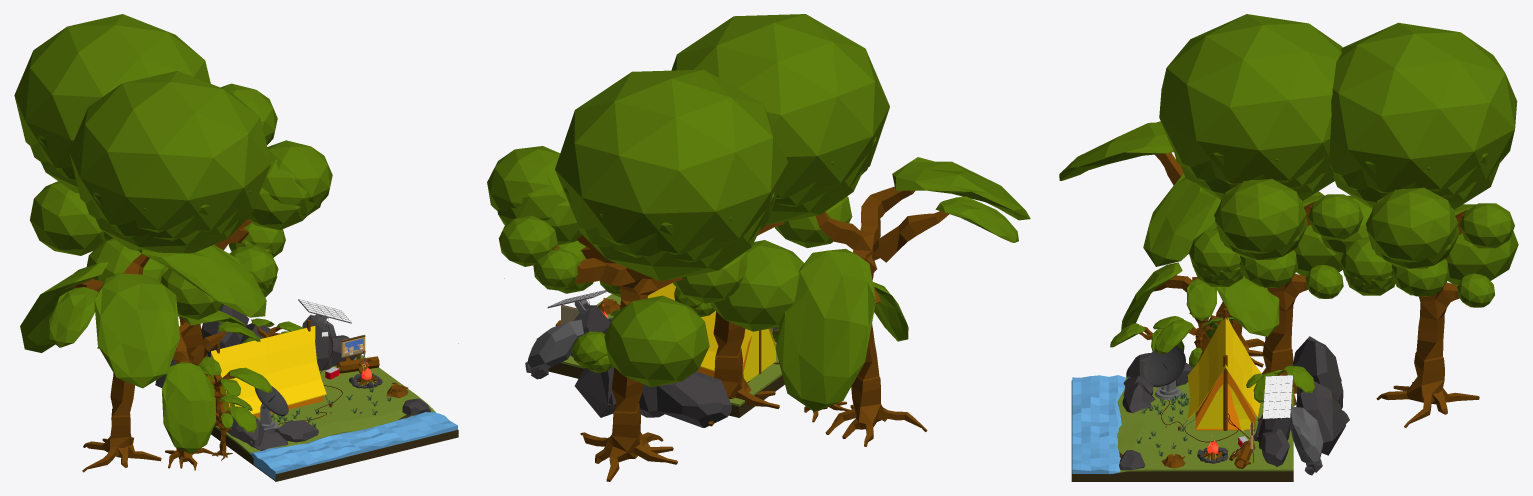
The model's file is camp_export11.glb.
3 renders of one model, left to right at view 1: azimuth 30°, elevation 25°; view 2: azimuth 150°, elevation 25°; view 3: azimuth 270°, elevation 25°, orthographic. The views are drawn at different scales.
Parts seen in each view (by area): view 1: Big tree leaves, Big tree leaves.001, Small Tree 2.003, Small Tree 2.002, Tent-main.001, Rock2.007, Rock2.003, Rock2.005, Rock_1.004, Small Tree 2.001, Small Tree Leaves 1, Rock2.009 (+3 smaller); view 2: Big tree leaves.001, Big tree leaves, Small Tree 2.003, Big Tree.001, Rock2.009, Big Tree, Rock.001, Small Tree 2.002, Tent-main.001, Tent-main.002, Rock2.007, Rock2.001 (+1 smaller); view 3: Big tree leaves.001, Big tree leaves, Small Tree 2.003, Rock2.007, Small Tree 2.002, Rock2.003, Big Tree.001, Rock2.009, Tent-main.001, Big Tree, Rock2.005, Rock_1.004 (+11 smaller).
Boxes of the visible parts, box(x1,y1,x2,y2) form: Big tree leaves: box(69, 71, 332, 319); Big tree leaves.001: box(14, 14, 277, 255); Small Tree 2.003: box(20, 245, 266, 472); Small Tree 2.002: box(97, 310, 260, 470); Tent-main.001: box(207, 326, 326, 414); Rock2.007: box(214, 354, 435, 454); Rock2.003: box(250, 411, 457, 480); Rock2.005: box(211, 429, 458, 481); Rock_1.004: box(218, 414, 318, 450); Small Tree 2.001: box(212, 394, 257, 460); Small Tree Leaves 1: box(197, 356, 272, 406); Rock2.009: box(155, 305, 275, 387); Big tree leaves.001: box(487, 69, 787, 387); Big tree leaves: box(671, 14, 889, 331); Small Tree 2.003: box(775, 157, 1030, 446); Big Tree.001: box(553, 235, 682, 481); Rock2.009: box(525, 361, 731, 427); Big Tree: box(708, 222, 784, 426); Rock.001: box(527, 319, 584, 368); Small Tree 2.002: box(804, 282, 908, 422); Tent-main.001: box(648, 283, 776, 371); Tent-main.002: box(743, 329, 775, 382); Rock2.007: box(561, 294, 782, 406); Rock2.001: box(536, 305, 610, 356); Big tree leaves.001: box(1321, 22, 1518, 307); Big tree leaves: box(1159, 14, 1363, 298); Small Tree 2.003: box(1059, 121, 1324, 367); Rock2.007: box(1117, 377, 1293, 472); Small Tree 2.002: box(1121, 262, 1279, 354); Rock2.003: box(1072, 375, 1125, 473); Big Tree.001: box(1376, 209, 1479, 427); Rock2.009: box(1292, 336, 1349, 475); Tent-main.001: box(1187, 317, 1261, 419); Big Tree: box(1261, 201, 1315, 405); Rock2.005: box(1071, 474, 1293, 481); Rock_1.004: box(1122, 353, 1193, 413).
Size of the model in its own units: 18.72 by 14.9 by 16.55.
